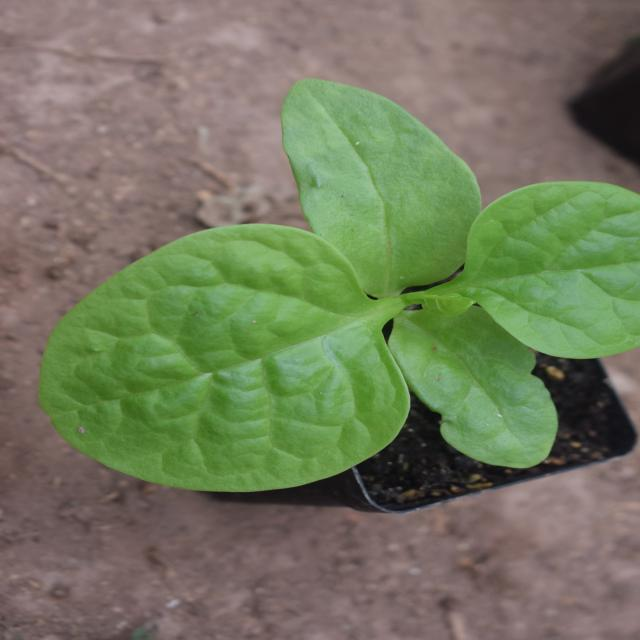Ceylon spinach: (123, 0, 481, 576)
